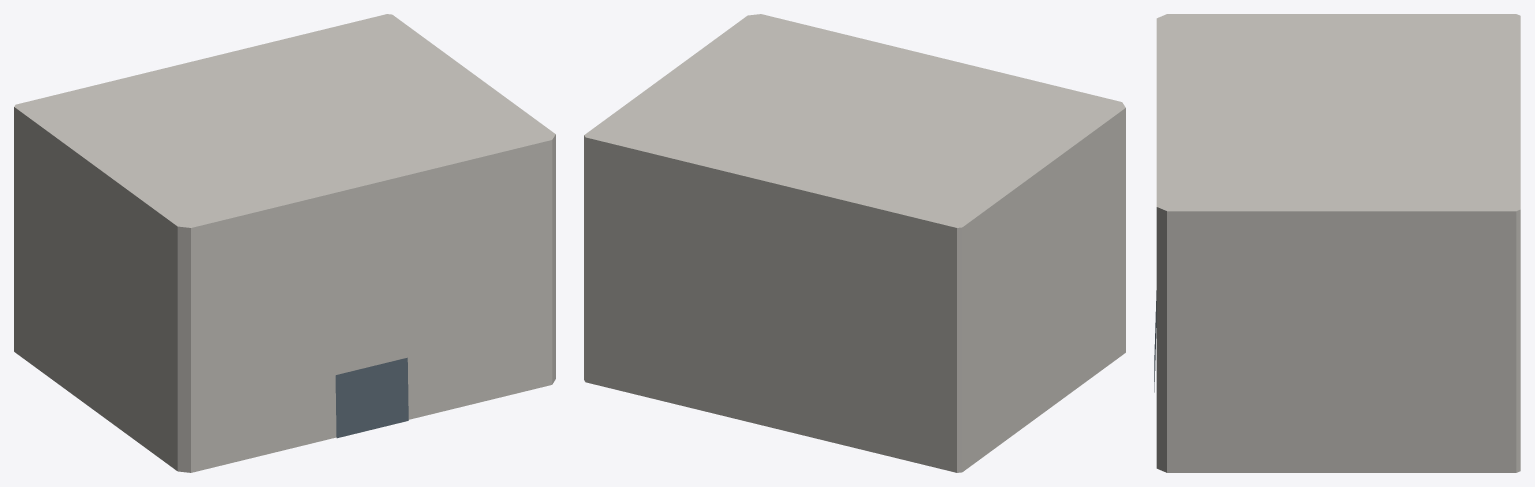
The model's file is loin-etape-1.glb.
3 views of the same model, side by side, from view 1: azimuth 30°, elevation 25°; view 2: azimuth 150°, elevation 25°; view 3: azimuth 270°, elevation 25° (orthographic). The views are drawn at different scales.
Parts seen in each view (by area): view 1: loin; view 2: loin; view 3: loin.
Boxes of the visible parts, box(x1,y1,x2,y2) form: loin: box(14, 14, 555, 472); loin: box(584, 14, 1125, 472); loin: box(1154, 14, 1520, 472).
Size of the model in its own units: 0.8077 by 0.4998 by 0.6335.
